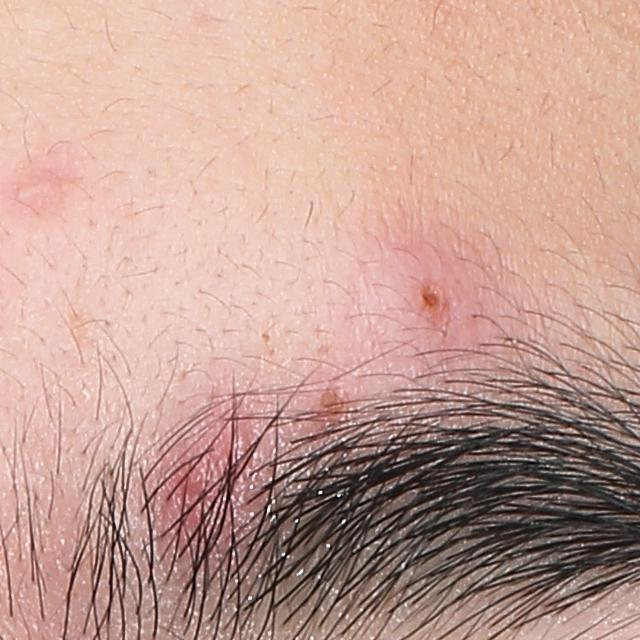comedo: (257, 329, 276, 347)
